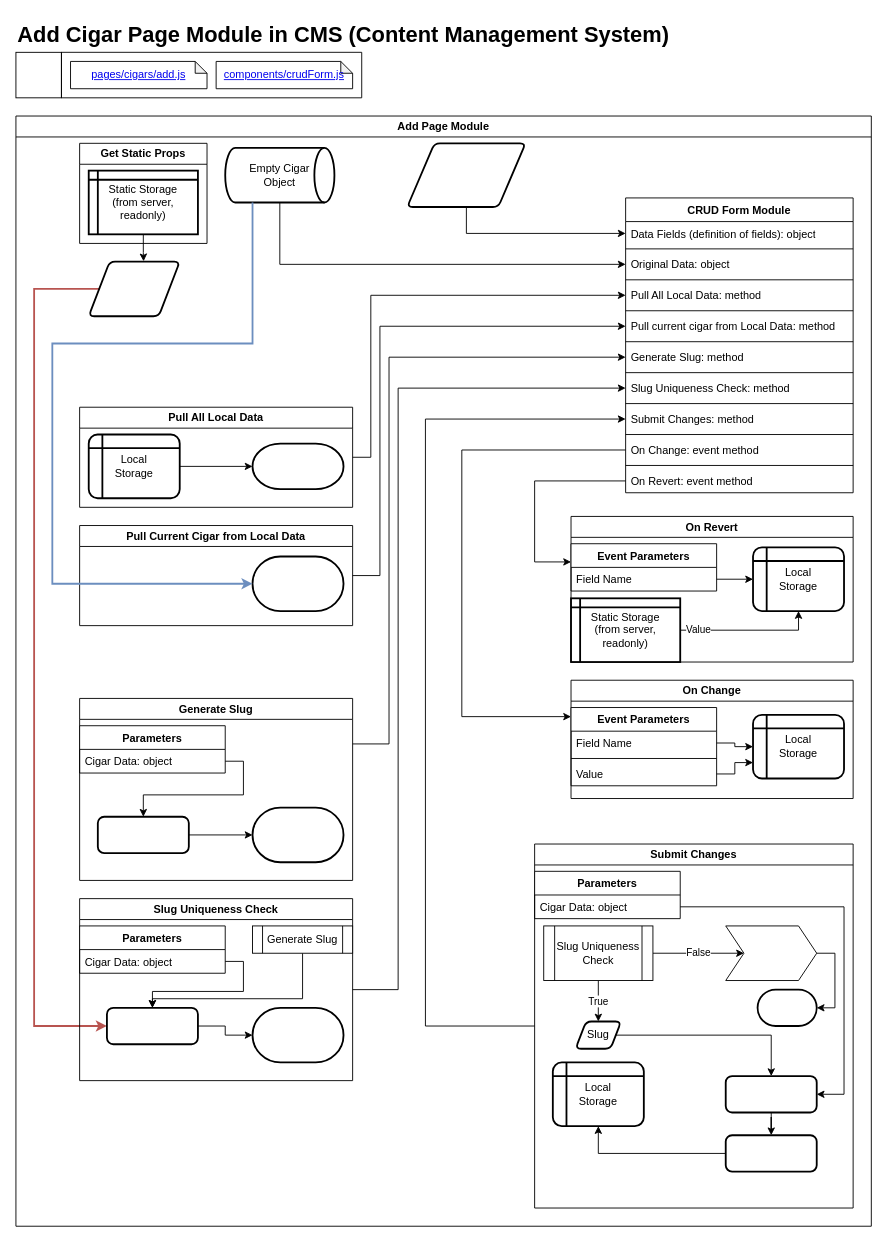
The diagram is 896 pixels wide and 1242 high, and some of its shapes have lost their labels. The centre of each missing label's shape, as x and y in pixels:
Add Date Added: the point at 770,1153
Add slug to data: the point at 770,1094
Alert User: the point at 771,953
All Cigars: the point at 133,288
Compare slug against all cigars: the point at 152,1025
import cigar-fields.json: the point at 466,174
Related Files:: the point at 38,74
Return: the point at 786,1007
Return: array: the point at 297,466
Return: object: the point at 297,583
Return: string: the point at 297,834
Return: true or false: the point at 297,1034
Slug Generation: the point at 142,834
